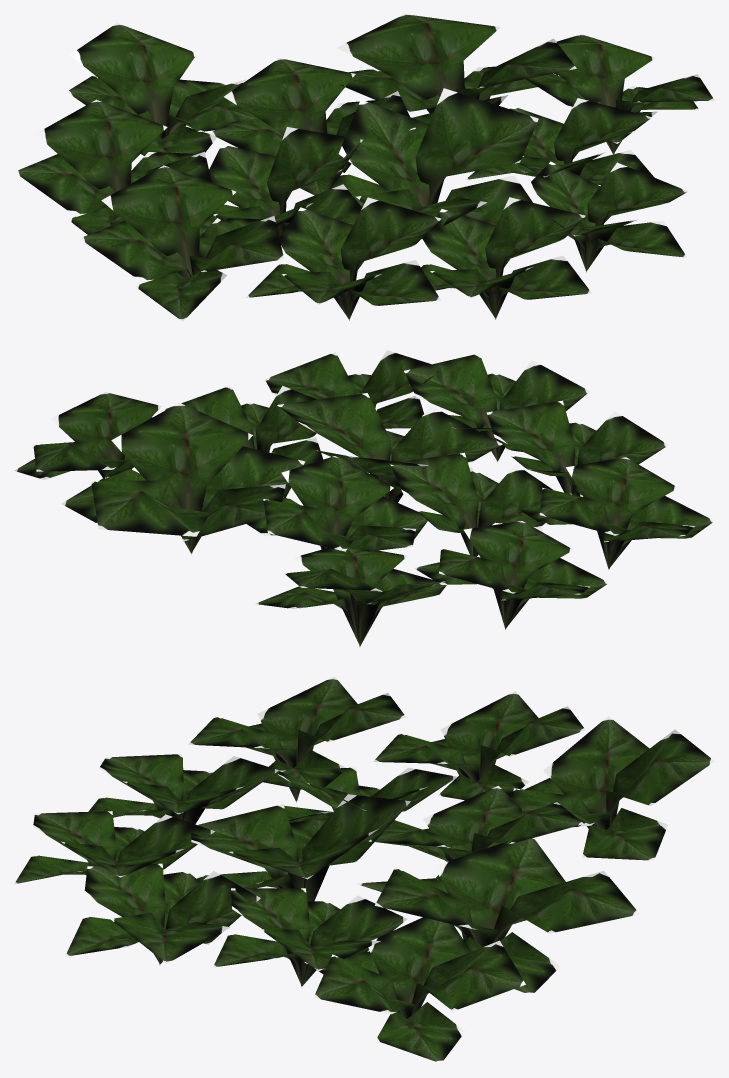
The model's file is GrassPlant03.fbx.
3 renders of one model, top to bottom at view 1: azimuth 30°, elevation 25°; view 2: azimuth 150°, elevation 25°; view 3: azimuth 270°, elevation 25°, orthographic. The views are drawn at different scales.
Visible parts, largest first — view 1: GrassPlant03; view 2: GrassPlant03; view 3: GrassPlant03.
Part boxes in pixels (left/top/right/bottom): GrassPlant03: left=14, top=14, right=714, bottom=321; GrassPlant03: left=14, top=350, right=714, bottom=647; GrassPlant03: left=14, top=676, right=714, bottom=1063.
Size of the model in its own units: 249 by 44.01 by 222.
